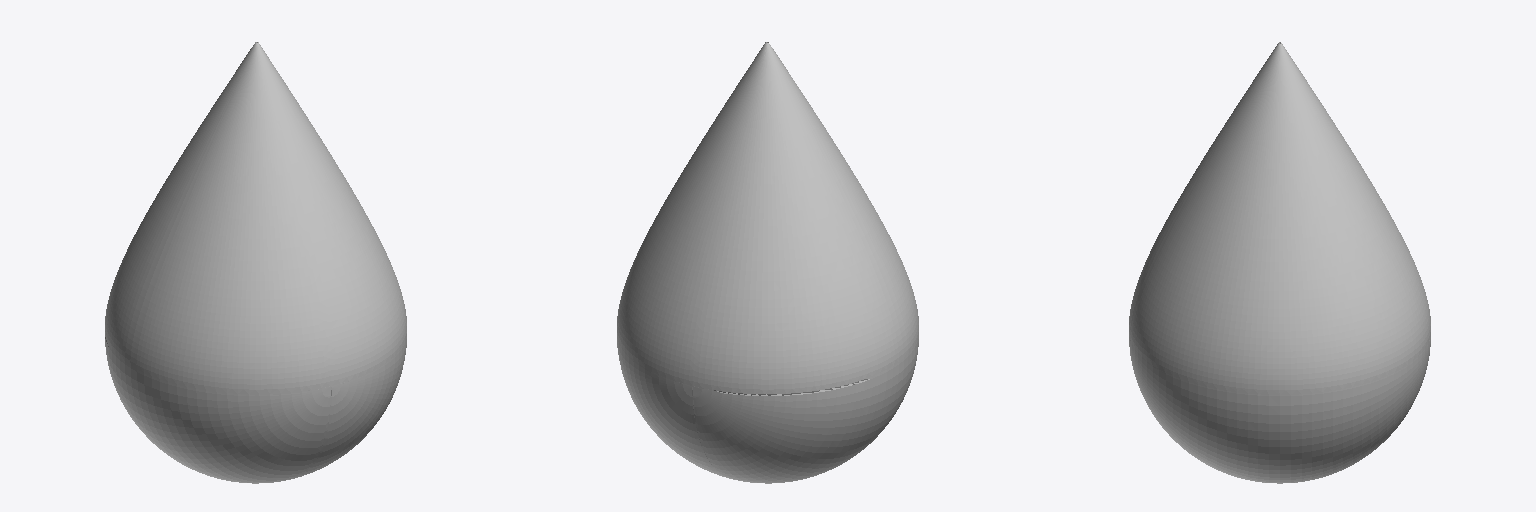
The model's file is waterdrop.obj.
3 views of the same model, side by side, from view 1: azimuth 30°, elevation 25°; view 2: azimuth 150°, elevation 25°; view 3: azimuth 270°, elevation 25° (orthographic).
Parts seen in each view (by area): view 1: water_drop; view 2: water_drop; view 3: water_drop.
Boxes of the visible parts, x1,y1,x2,y2 form: water_drop: [105, 42, 406, 483]; water_drop: [617, 42, 918, 483]; water_drop: [1129, 42, 1430, 483].
Size of the model in its own units: 57.65 by 89.71 by 57.65.